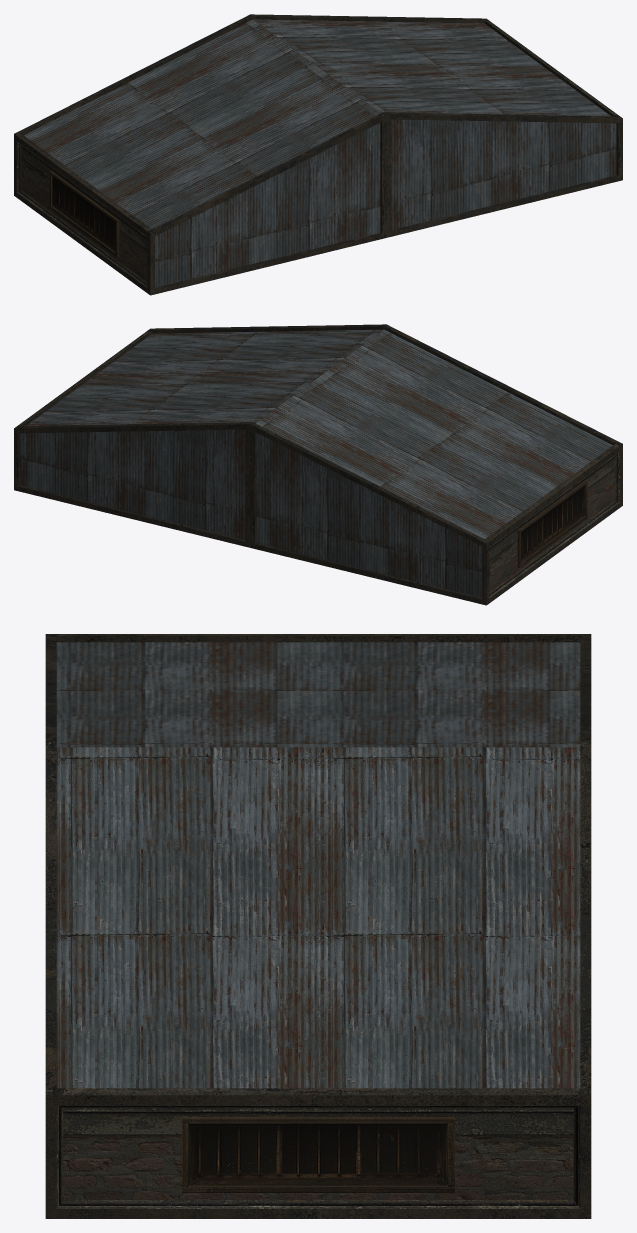
The model's file is roof_mh_4_a_1.glb.
The picture shows the model from 3 angles, top to bottom: view 1: azimuth 30°, elevation 25°; view 2: azimuth 150°, elevation 25°; view 3: azimuth 270°, elevation 25°; orthographic projection. The views are drawn at different scales.
Parts seen in each view (by area): view 1: roof_mh_4_a_1; view 2: roof_mh_4_a_1; view 3: roof_mh_4_a_1.
Part boxes in pixels (x1,y1,x2,y2): roof_mh_4_a_1: [14, 14, 622, 295]; roof_mh_4_a_1: [14, 324, 622, 605]; roof_mh_4_a_1: [45, 634, 591, 1218].
Bounding box in the file's own units: 8 × 2 × 4.
Materials: 6 (6 with a texture image).
